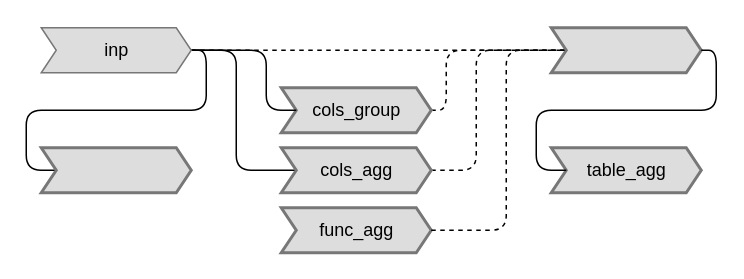
This 744x279 diagram has some shape labels left out. Here are the shapes that lost their labels. From the top down, the centre of each, then its label:
At (x=625, y=50): "agg".
At (x=115, y=170): "table_inp".
